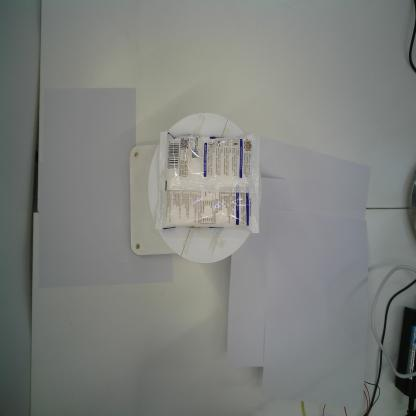Seasoner: (153, 126, 261, 236)
